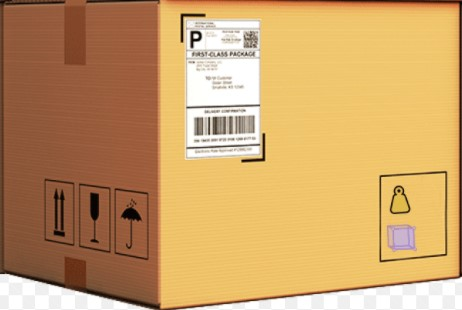stock: (4, 1, 460, 310)
